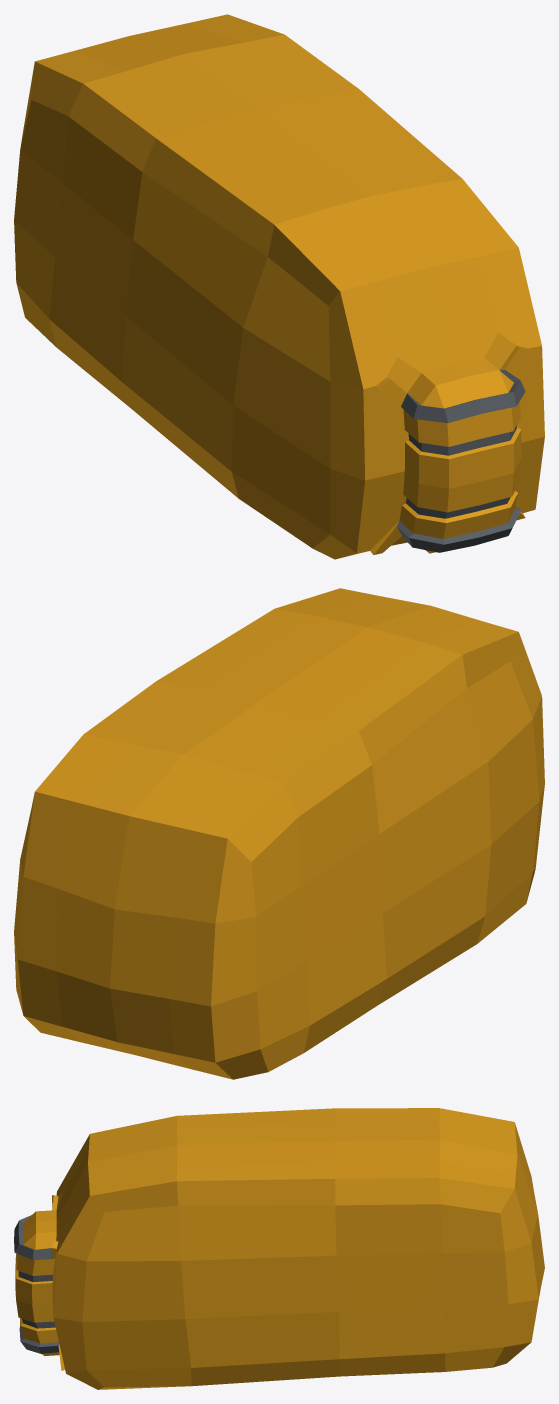
The model's file is Personal_Vehicle_02_Front_Body_Yellow.fbx.
3 renders of one model, top to bottom at view 1: azimuth 30°, elevation 25°; view 2: azimuth 150°, elevation 25°; view 3: azimuth 270°, elevation 25°, orthographic. The views are drawn at different scales.
Visible parts, largest first — view 1: Personal_Vehicle_02_Front_Body_Yellow; view 2: Personal_Vehicle_02_Front_Body_Yellow; view 3: Personal_Vehicle_02_Front_Body_Yellow.
Part boxes in pixels (x1,y1,x2,y2): Personal_Vehicle_02_Front_Body_Yellow: (14,14,544,559); Personal_Vehicle_02_Front_Body_Yellow: (14,588,544,1079); Personal_Vehicle_02_Front_Body_Yellow: (14,1108,544,1389).
Bounding box in the file's own units: 83.05 × 92.09 × 202.
1 material, 1 textured.
